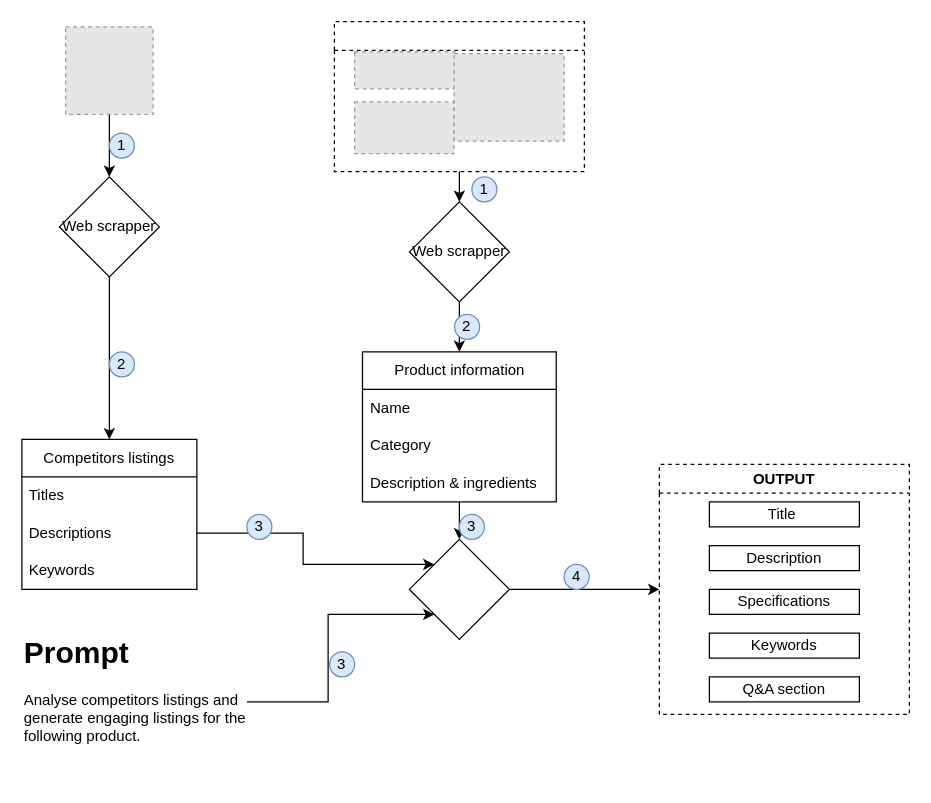
The diagram is 931 pixels wide and 803 high, and some of its shapes have lost their labels. Grey dashed boxes stand in for pictures. Here are the shapes that lost their labels. From the top down, the centre of each, then its label:
the point at 458,96: Suppliers
the point at 458,588: LLM OpenRouter API
